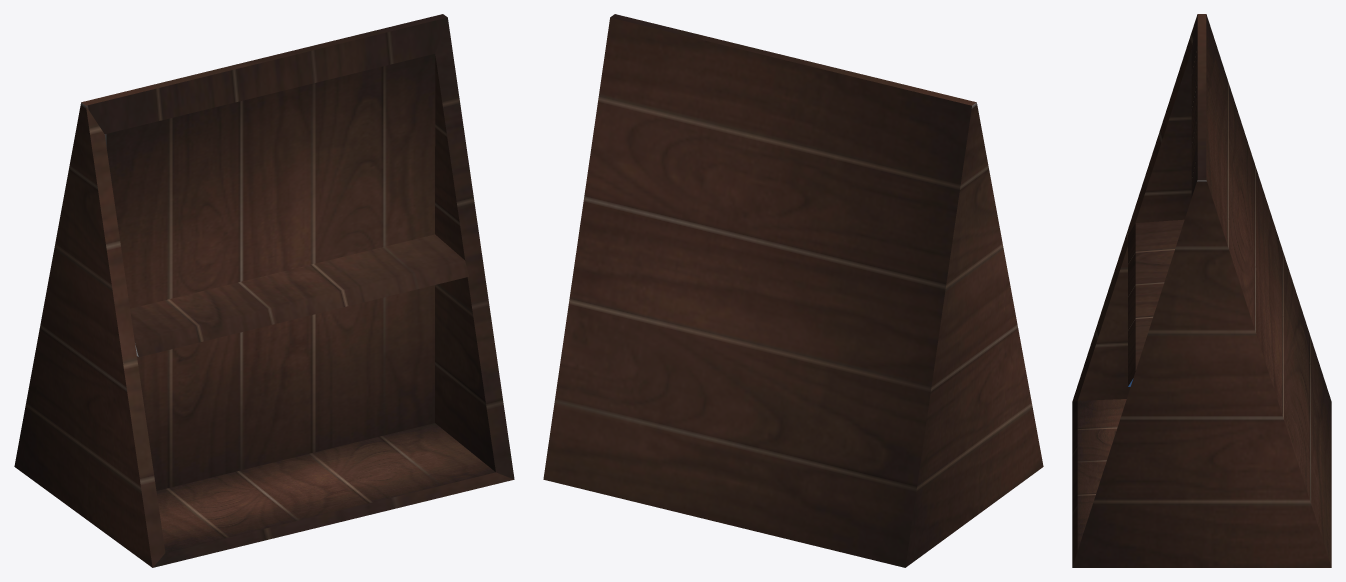
The model's file is stand.fbx.
3 views of the same model, side by side, from view 1: azimuth 30°, elevation 25°; view 2: azimuth 150°, elevation 25°; view 3: azimuth 270°, elevation 25° (orthographic). The views are drawn at different scales.
Parts seen in each view (by area): view 1: Icosphere.001; view 2: Icosphere.001; view 3: Icosphere.001.
Boxes of the visible parts, x1=… form: Icosphere.001: x1=14, y1=14, x2=514, y2=567; Icosphere.001: x1=543, y1=14, x2=1043, y2=567; Icosphere.001: x1=1072, y1=14, x2=1331, y2=567.
Size of the model in its own units: 49.64 by 54.18 by 32.83.
Materials: 1 (1 with a texture image).
